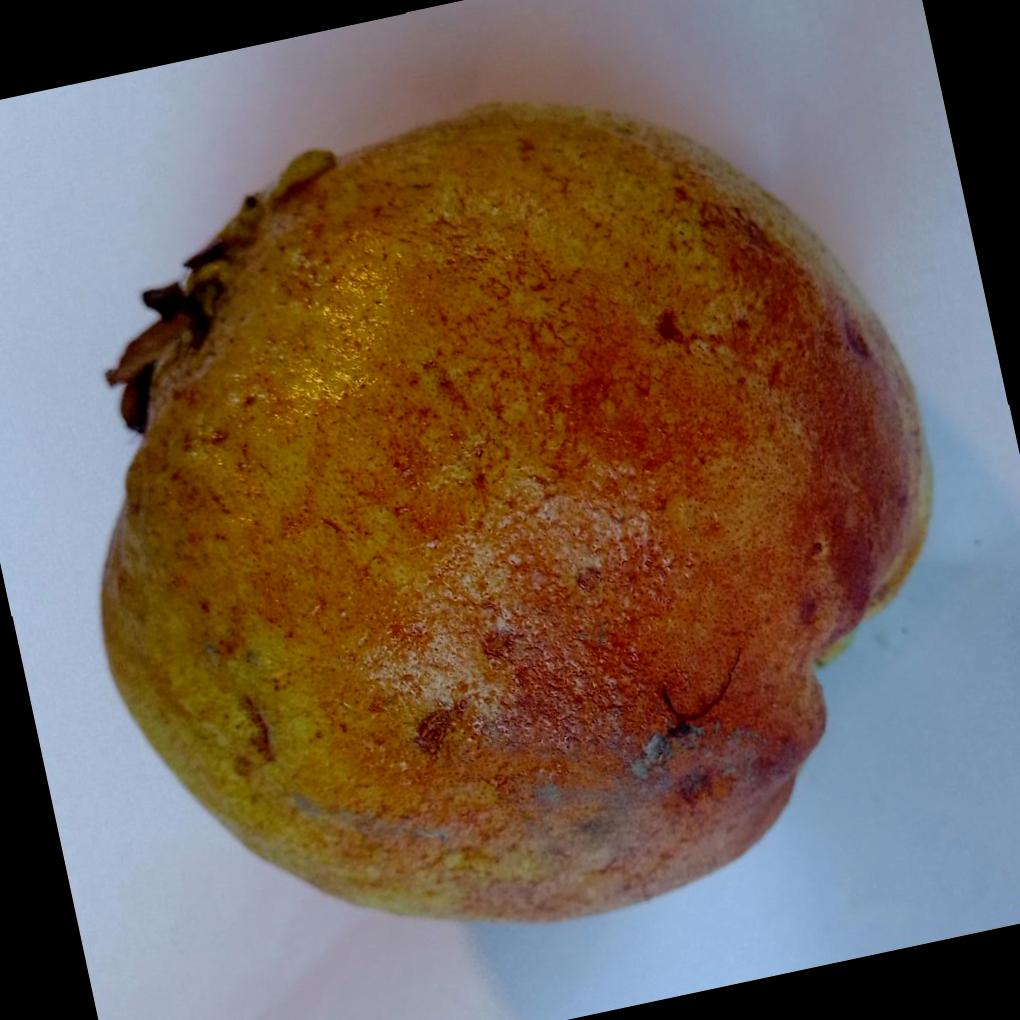FreshOrange: (100, 97, 938, 926)
